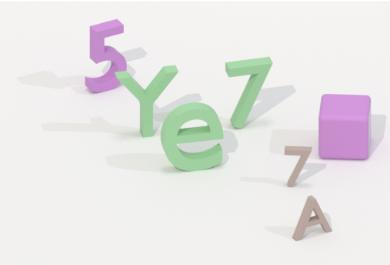0-KhoiVuong: (315, 90, 376, 163)
5: (84, 18, 128, 99)
7: (222, 54, 274, 131), (280, 142, 317, 190)
A: (289, 194, 336, 244)
Y: (112, 64, 178, 137)
e: (158, 101, 226, 173)
